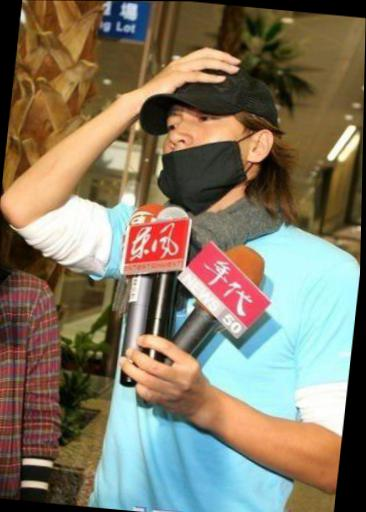WRONG: (151, 98, 254, 200)
